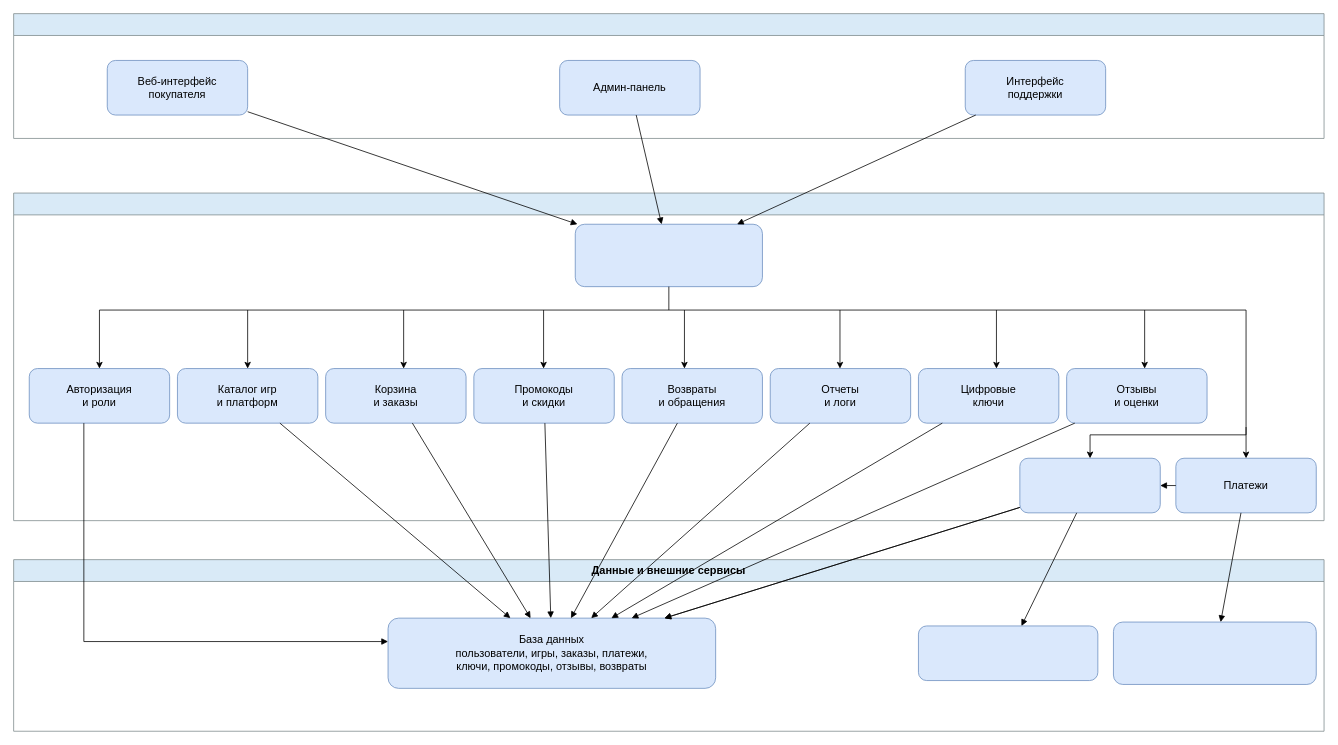
Image size: 1338x745. Some labels were removed from this diagram. Here are the shapes that lost their labels. From the top down, the box of each, then its label:
(13, 13, 1324, 138): Клиентский уровень
(574, 223, 762, 287): Backend API контроллеры
(13, 192, 1324, 521): Серверный уровень
(1019, 457, 1160, 513): Email-уведомления
(918, 625, 1098, 681): Email-сервис
(1113, 621, 1316, 684): ЮKassa платежный шлюз
